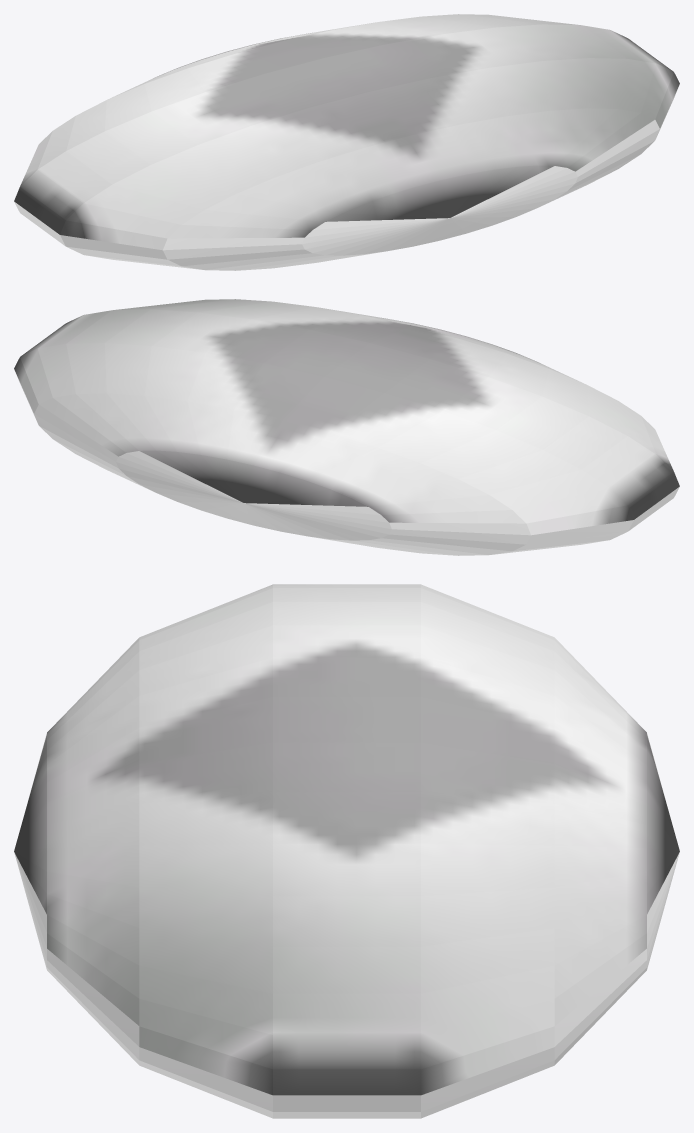
File: Building_KneelPillow.glb
3 views of the same model, one above another, from view 1: azimuth 30°, elevation 25°; view 2: azimuth 150°, elevation 25°; view 3: azimuth 270°, elevation 25° (orthographic). The views are drawn at different scales.
Visible parts, largest first — view 1: KneelPillow; view 2: KneelPillow; view 3: KneelPillow.
Boxes of the visible parts, bbox=[...] form: KneelPillow: bbox=[14, 14, 679, 270]; KneelPillow: bbox=[14, 299, 679, 555]; KneelPillow: bbox=[14, 584, 679, 1118].
Bounding box in the file's own units: 0.9359 × 0.195 × 0.54.
1 material, 1 textured.
